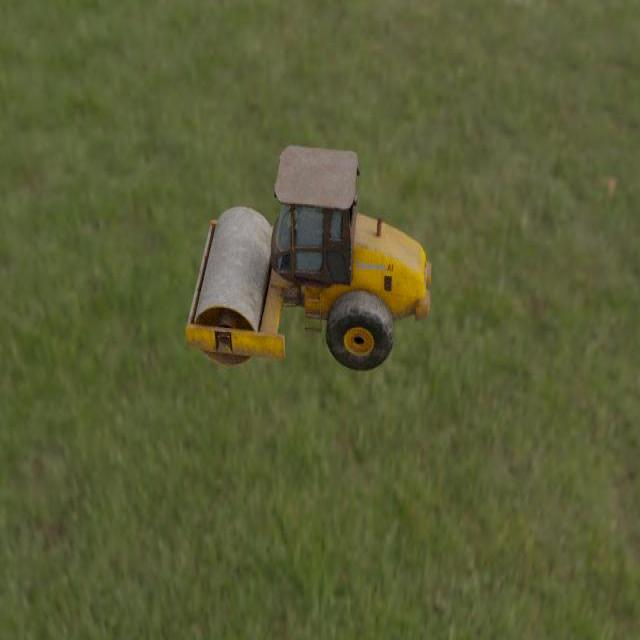Roller: (185, 144, 431, 371)
